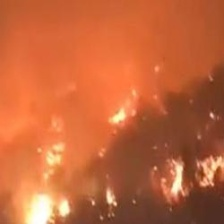fire: (22, 91, 224, 223)
